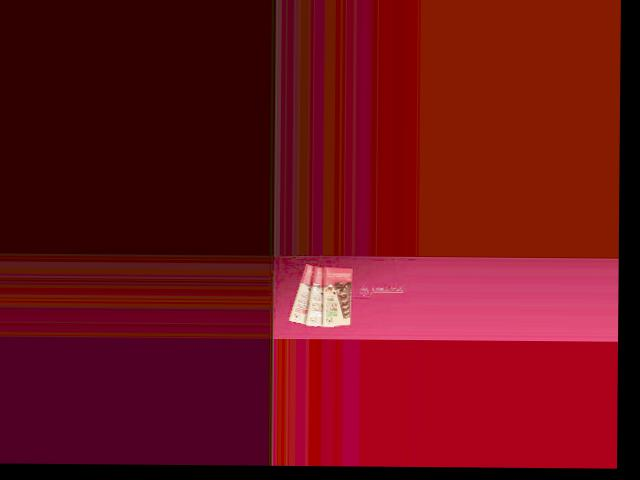chocolate: (289, 261, 320, 327)
